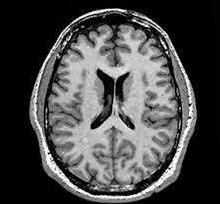Normal_Brain: (1, 1, 203, 204)
